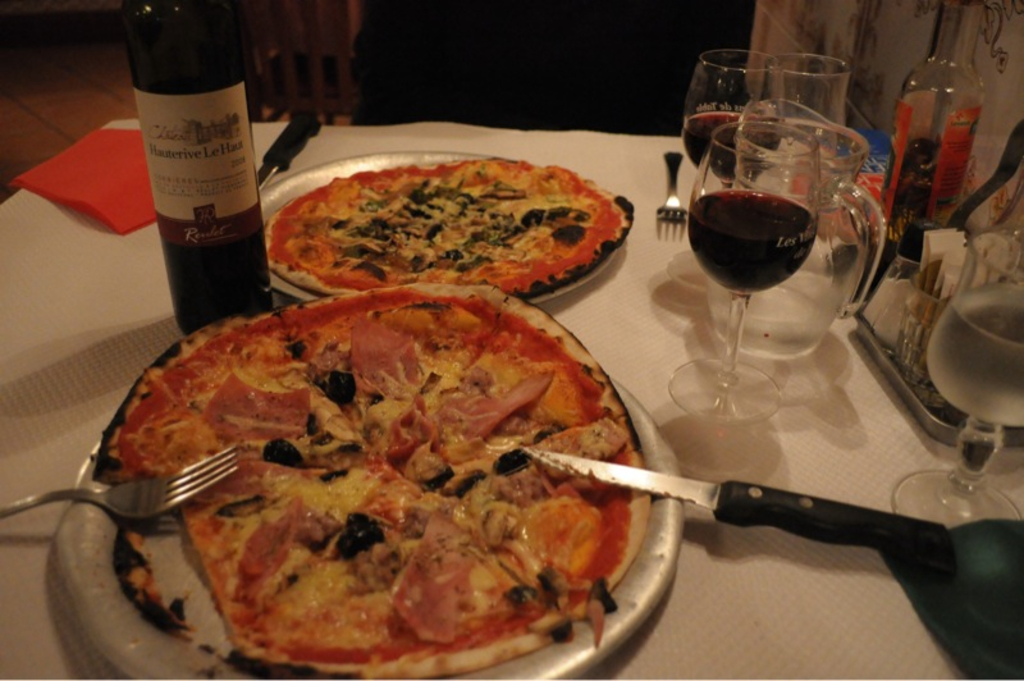Pizza: (88, 276, 652, 678), (267, 151, 638, 308)
